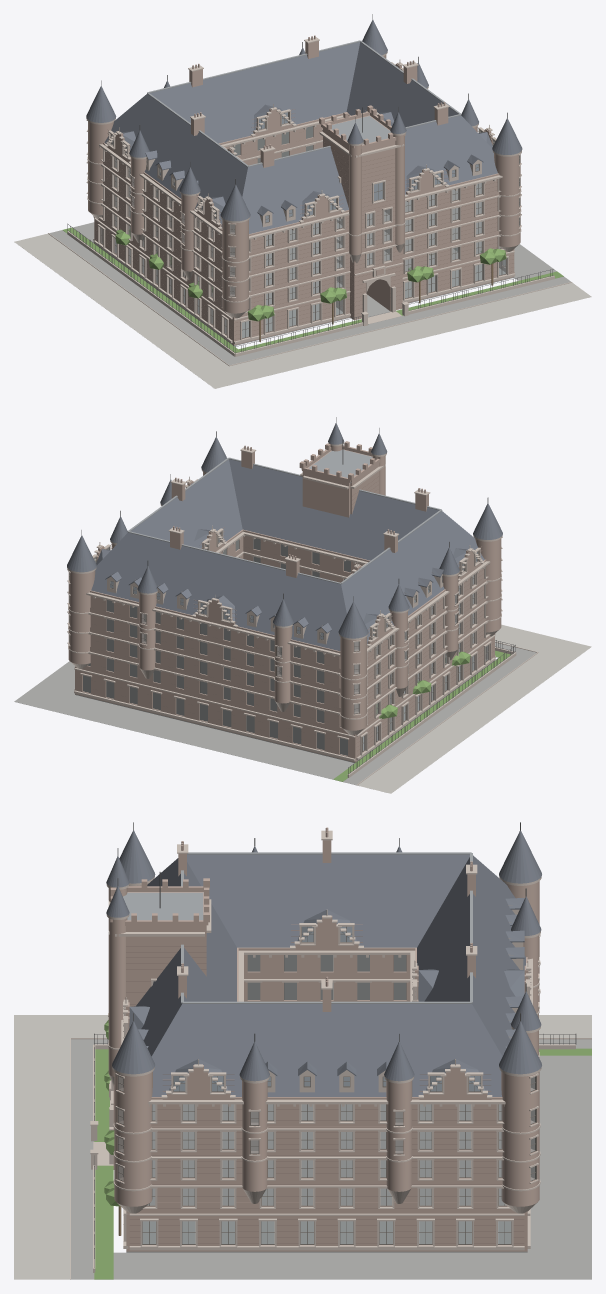
Rendered from clay-baronial-railway-hotel-clay-v002.glb.
The picture shows the model from 3 angles, top to bottom: view 1: azimuth 30°, elevation 25°; view 2: azimuth 150°, elevation 25°; view 3: azimuth 270°, elevation 25°; orthographic projection. The views are drawn at different scales.
Visible parts, largest first — view 1: CLAY_WALL, CLAY_ROOF, CLAY_STONE, CLAY_CONCRETE, CLAY_FOUNDATION, CLAY_GLASS, CLAY_PLANTING, CLAY_TRIM, CLAY_JOINT, CLAY_FLOOR, CLAY_LEAD, CLAY_HARDWARE; view 2: CLAY_WALL, CLAY_ROOF, CLAY_STONE, CLAY_FOUNDATION, CLAY_CONCRETE, CLAY_GLASS, CLAY_TRIM, CLAY_LEAD, CLAY_PLANTING, CLAY_HARDWARE, CLAY_JOINT; view 3: CLAY_ROOF, CLAY_WALL, CLAY_FOUNDATION, CLAY_STONE, CLAY_CONCRETE, CLAY_GLASS, CLAY_FLOOR, CLAY_TRIM, CLAY_JOINT, CLAY_LEAD, CLAY_PLANTING, CLAY_HARDWARE.
Boxes of the visible parts, x1,y1,x2,y2 form: CLAY_WALL: [88, 41, 520, 345]; CLAY_ROOF: [86, 20, 522, 233]; CLAY_STONE: [48, 37, 572, 366]; CLAY_CONCRETE: [14, 233, 591, 388]; CLAY_FOUNDATION: [49, 222, 570, 365]; CLAY_GLASS: [101, 112, 519, 337]; CLAY_PLANTING: [63, 227, 563, 352]; CLAY_TRIM: [100, 112, 520, 338]; CLAY_JOINT: [95, 109, 513, 339]; CLAY_FLOOR: [115, 141, 481, 305]; CLAY_LEAD: [147, 40, 461, 166]; CLAY_HARDWARE: [67, 14, 553, 353]; CLAY_WALL: [68, 441, 501, 762]; CLAY_ROOF: [67, 423, 502, 651]; CLAY_STONE: [67, 442, 538, 785]; CLAY_FOUNDATION: [14, 642, 536, 785]; CLAY_CONCRETE: [357, 624, 591, 793]; CLAY_GLASS: [69, 533, 488, 755]; CLAY_TRIM: [69, 532, 488, 755]; CLAY_LEAD: [127, 449, 442, 584]; CLAY_PLANTING: [333, 650, 510, 781]; CLAY_HARDWARE: [81, 417, 515, 774]; CLAY_JOINT: [111, 476, 493, 755]; CLAY_ROOF: [106, 830, 541, 1096]; CLAY_WALL: [108, 840, 539, 1251]; CLAY_FOUNDATION: [71, 1039, 591, 1279]; CLAY_STONE: [70, 830, 591, 1279]; CLAY_CONCRETE: [14, 1015, 591, 1279]; CLAY_GLASS: [118, 926, 535, 1243]; CLAY_FLOOR: [148, 955, 505, 1205]; CLAY_TRIM: [117, 926, 536, 1244]; CLAY_JOINT: [126, 924, 527, 1243]; CLAY_LEAD: [123, 852, 472, 1003]; CLAY_PLANTING: [94, 1020, 591, 1279]; CLAY_HARDWARE: [94, 822, 576, 1267].
Size of the model in its own units: 78 by 40 by 72.
